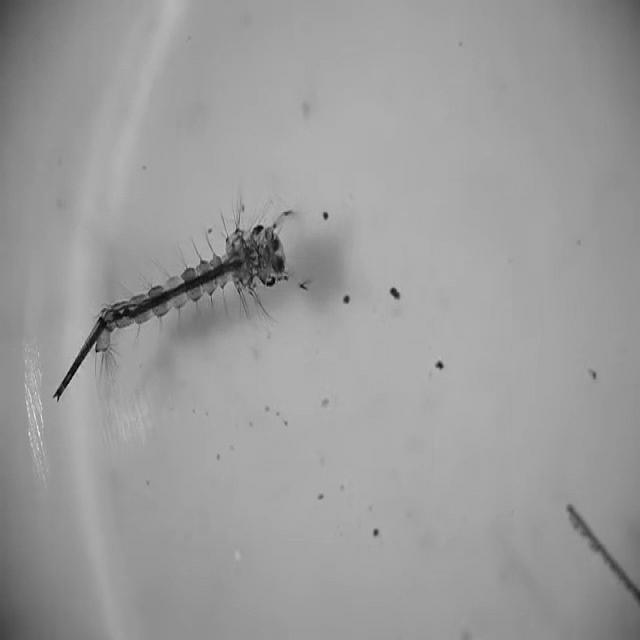larvas: (55, 215, 298, 397)
